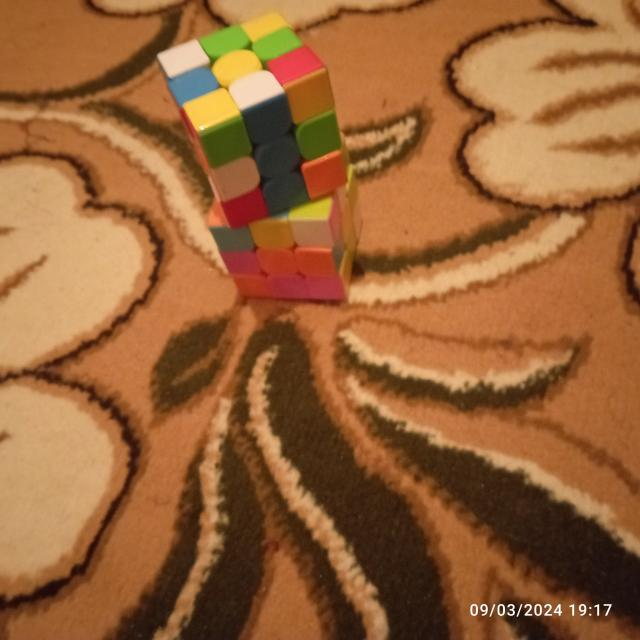Rub: (146, 8, 353, 232), (206, 132, 368, 302)
